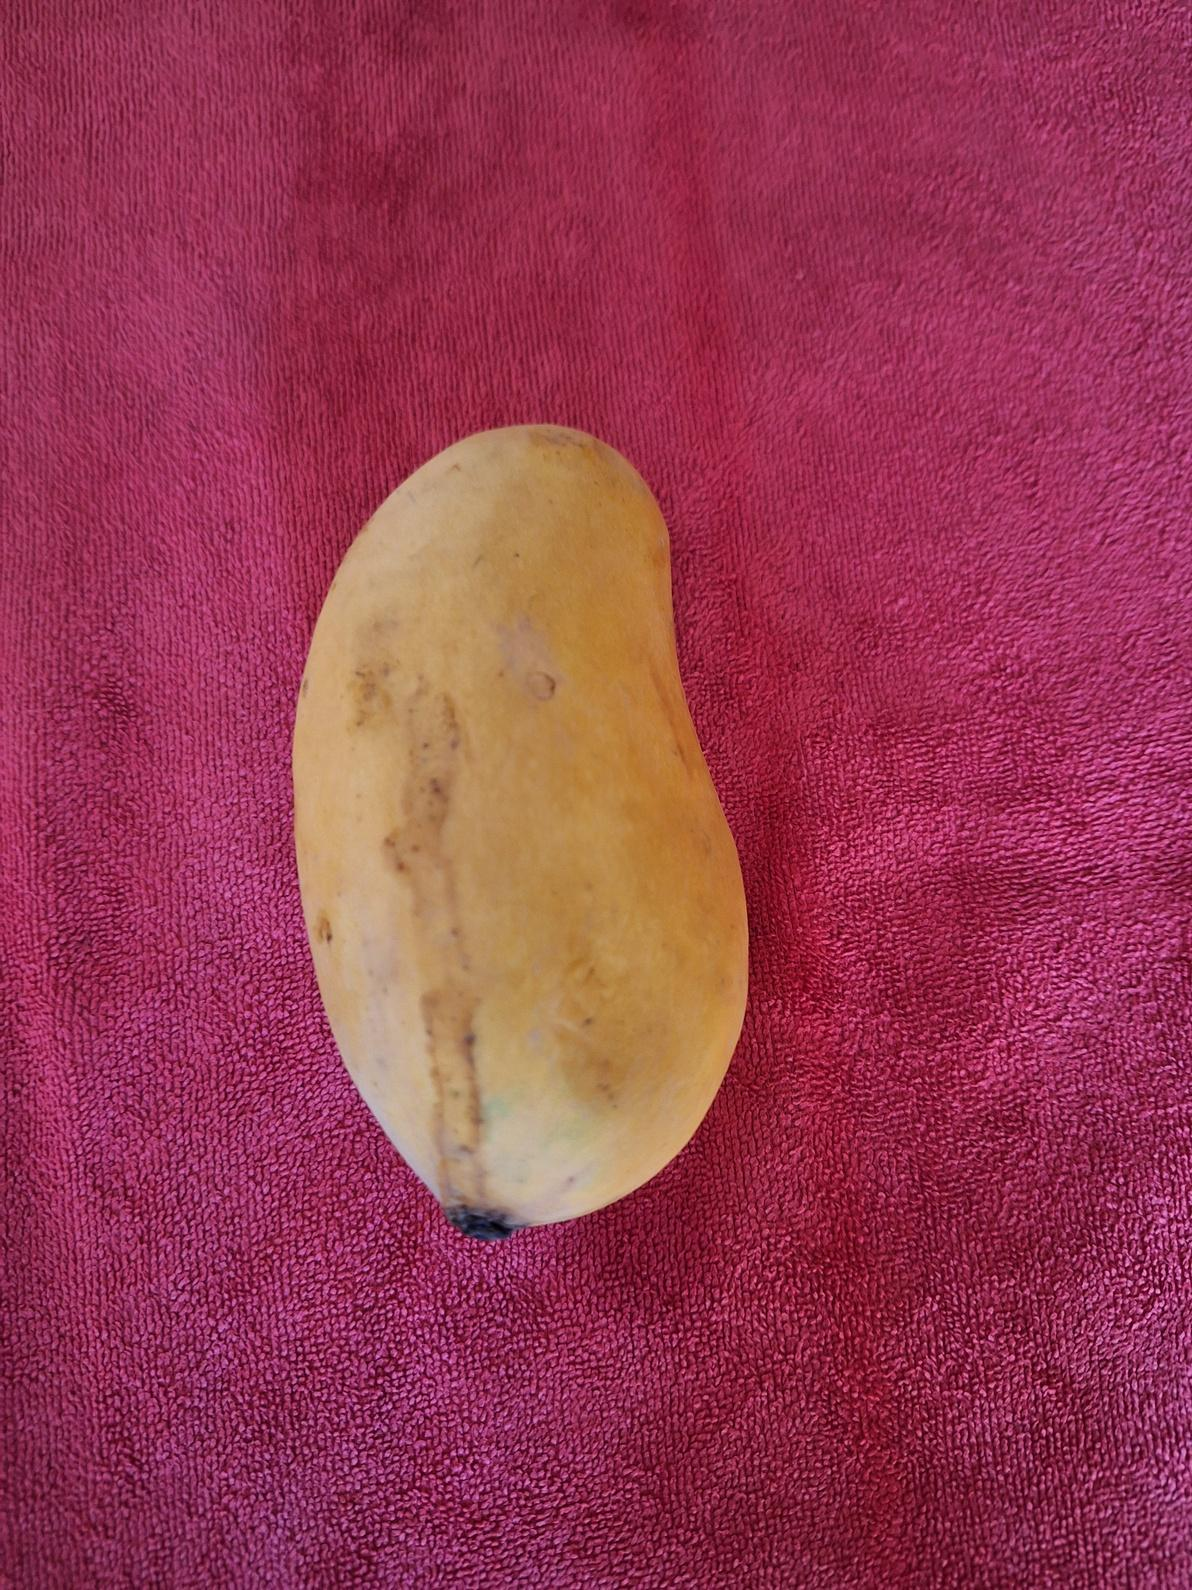mango: (290, 421, 751, 1239)
